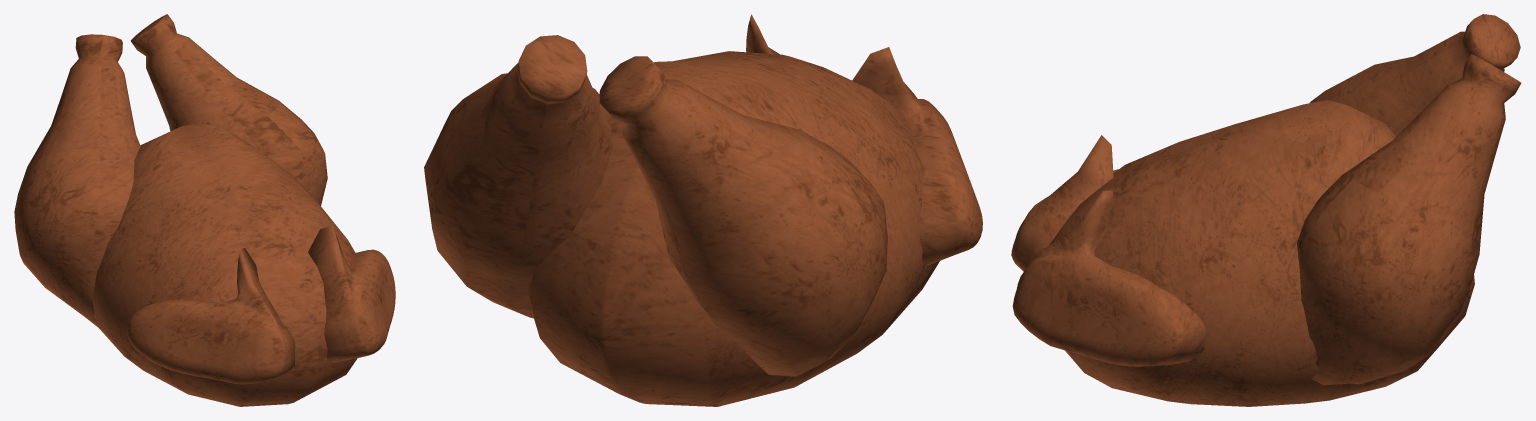
Rendered from Chicken_Whole Cooked.glb.
3 renders of one model, left to right at view 1: azimuth 30°, elevation 25°; view 2: azimuth 150°, elevation 25°; view 3: azimuth 270°, elevation 25°, orthographic. The views are drawn at different scales.
Parts seen in each view (by area): view 1: Chicken; view 2: Chicken; view 3: Chicken.
Part boxes in pixels (left/top/right/bottom): Chicken: left=14, top=14, right=395, bottom=406; Chicken: left=424, top=14, right=982, bottom=406; Chicken: left=1011, top=14, right=1521, bottom=406.
Size of the model in its own units: 0.9056 by 0.8188 by 1.1.
1 material, 1 textured.
